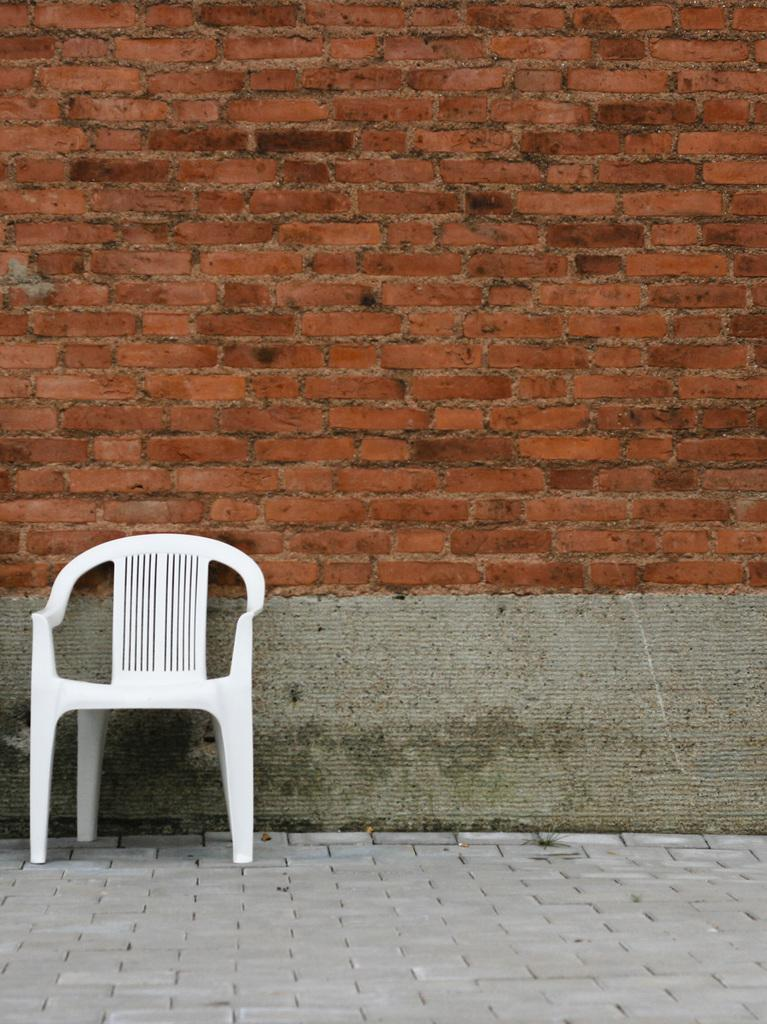Chair: (19, 532, 277, 876)
